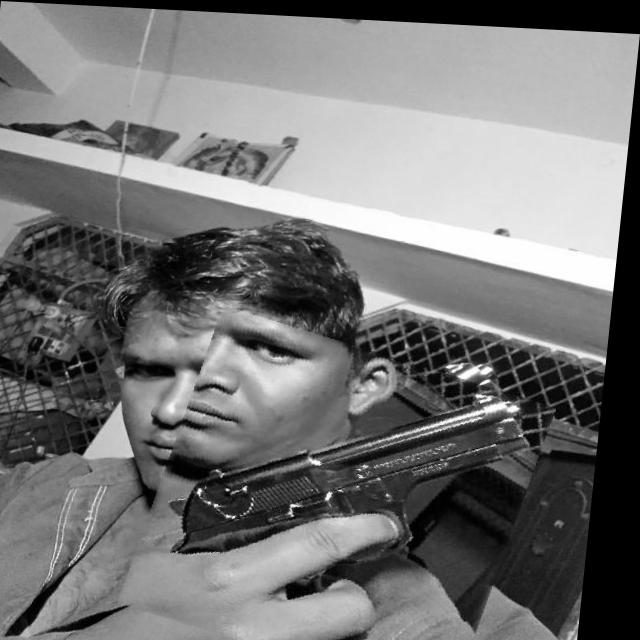handgun: (141, 318, 553, 640)
